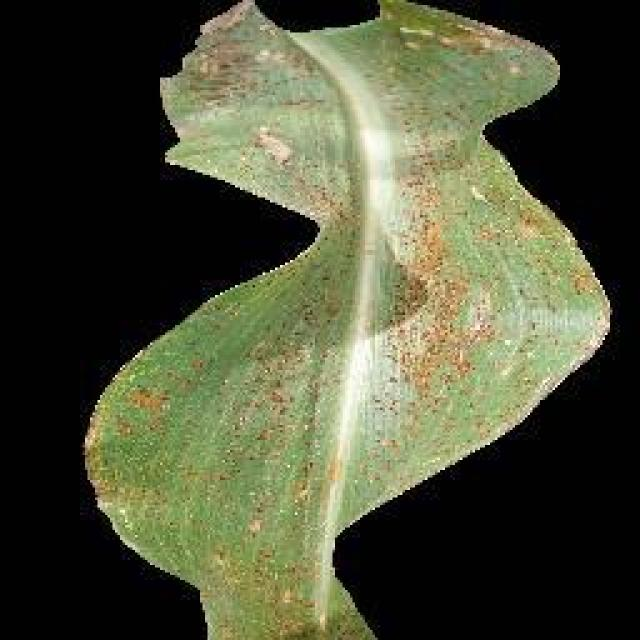Corn Common Rust: (203, 178, 577, 584)
